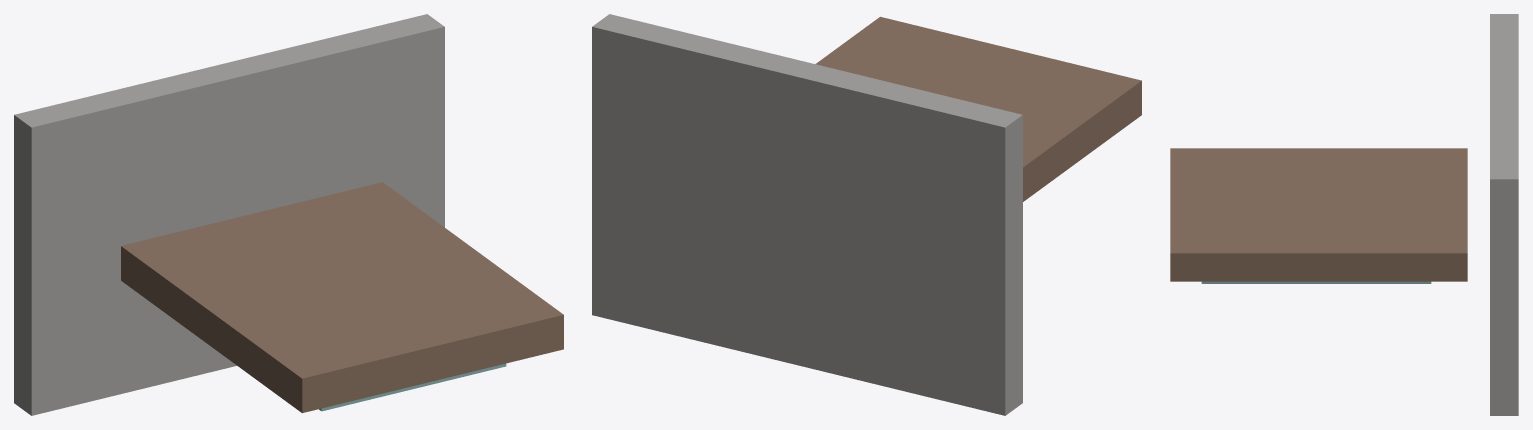
The picture shows the model from 3 angles, left to right: view 1: azimuth 30°, elevation 25°; view 2: azimuth 150°, elevation 25°; view 3: azimuth 270°, elevation 25°; orthographic projection. The views are drawn at different scales.
Parts seen in each view (by area): view 1: H10_part_0, H10_part_1, H10_part_2; view 2: H10_part_0, H10_part_1; view 3: H10_part_1, H10_part_0, H10_part_2.
Boxes of the visible parts, x1,y1,x2,y2 form: H10_part_0: (14,14,444,415); H10_part_1: (121,182,563,413); H10_part_2: (319,363,506,411); H10_part_0: (592,14,1022,415); H10_part_1: (815,16,1141,201); H10_part_1: (1170,148,1467,281); H10_part_0: (1490,14,1518,415); H10_part_2: (1201,281,1431,283).
Size of the model in its own units: 1.5 by 1 by 1.34.
